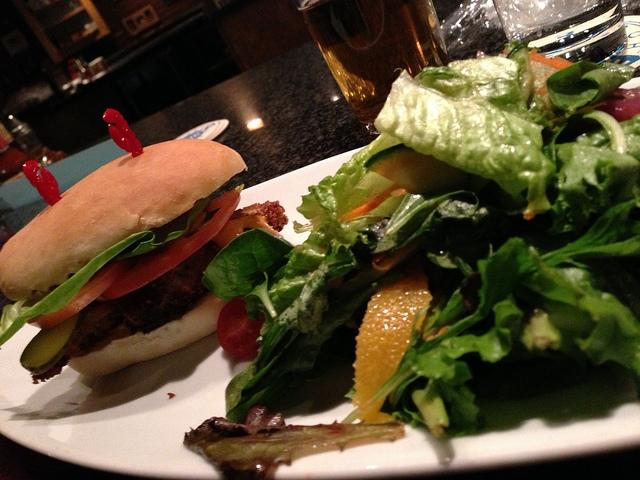lettuce: (340, 238, 637, 424), (386, 176, 602, 344), (224, 214, 390, 422), (1, 196, 211, 346), (373, 56, 557, 214), (294, 132, 406, 234), (541, 197, 640, 268), (201, 228, 294, 300), (550, 144, 638, 207)
tomato: (95, 189, 240, 301), (28, 258, 132, 330), (217, 299, 265, 362), (594, 88, 640, 123)
